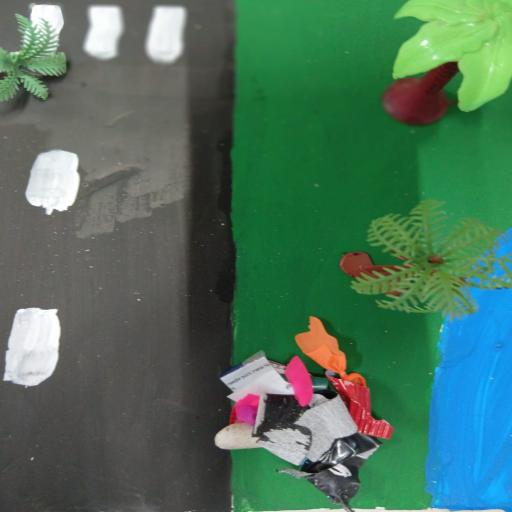fallen trees: (0, 12, 77, 104)
trash: (202, 312, 413, 510)
